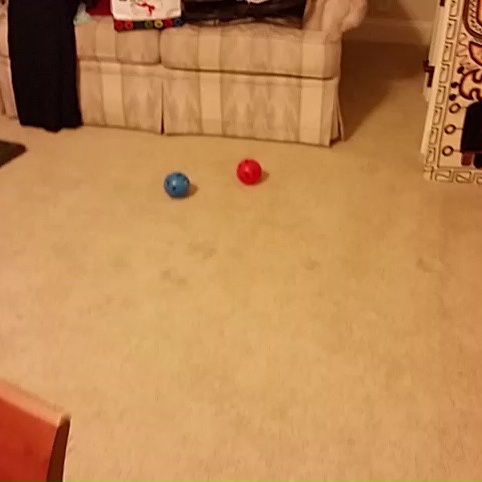blueball: (161, 168, 192, 200)
redball: (234, 155, 265, 186)
